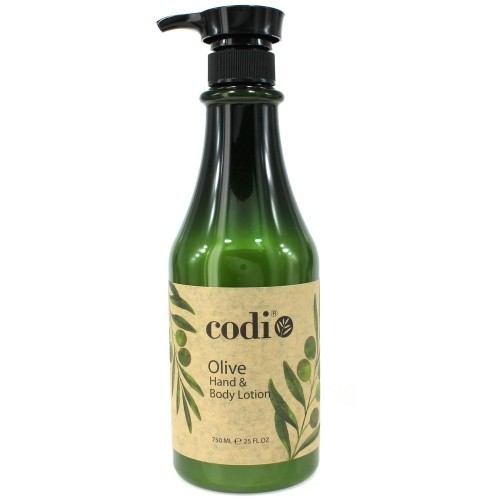Nonrec_Plastic: (117, 4, 369, 488)
